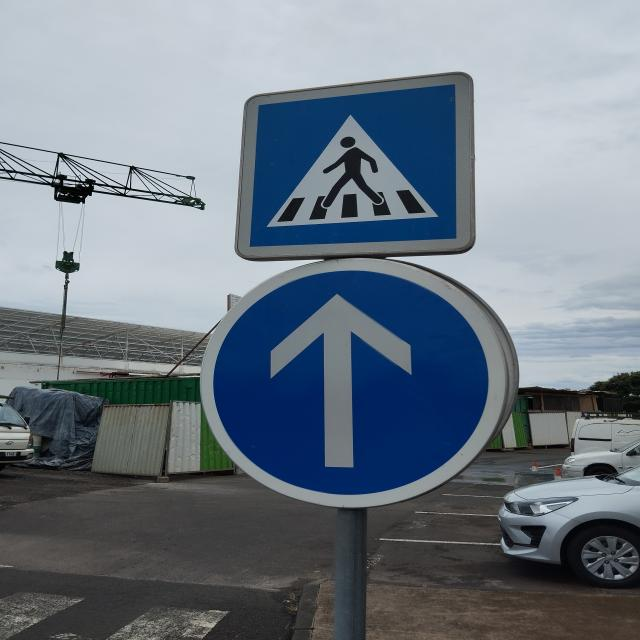Passage-pieton: (234, 64, 482, 261)
Sens-Unique: (200, 259, 512, 506)
